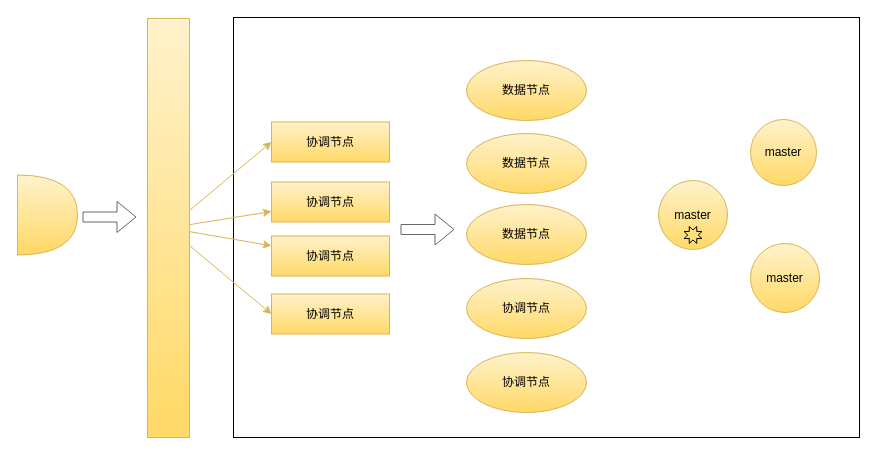
Image size: 877x455. Some labels were removed from this diagram. The shapes that lost their labels are listed below. From the top down, each one's centre as x and y in pixels, then its label:
point (47, 214): 应用
point (168, 228): LB
